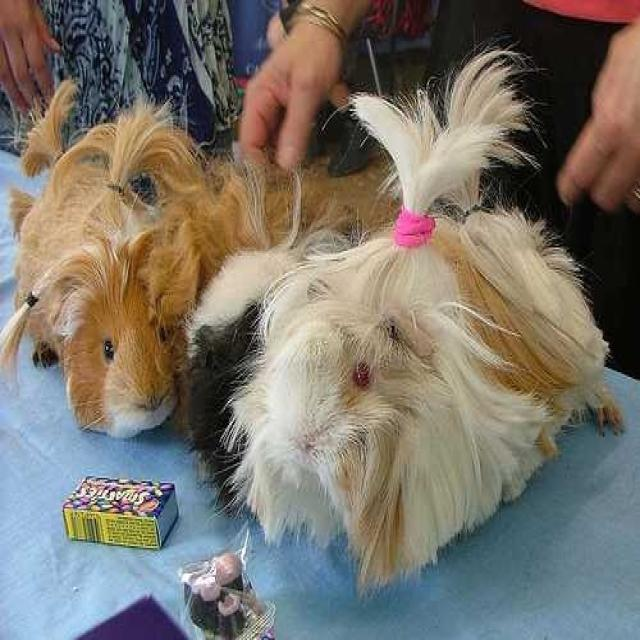guinea pig: (245, 230, 577, 560), (47, 165, 190, 434)
